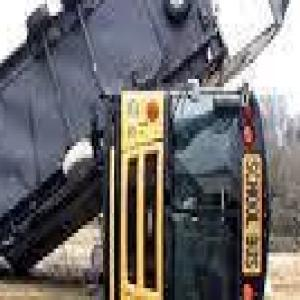severe: (0, 0, 298, 300)
